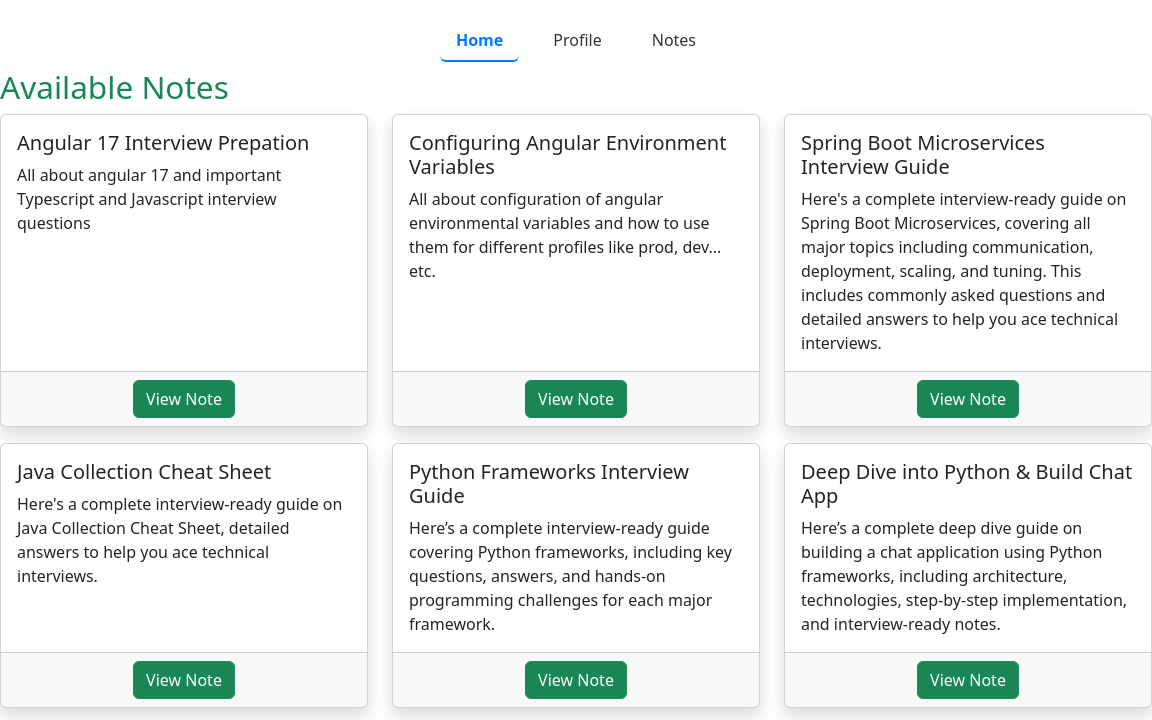
Test: TabsComponent › should have profile content when active tab is profile
Click the button "Profile" at {"x": 578, "y": 41}, box left=537, top=20, right=618, bottom=62
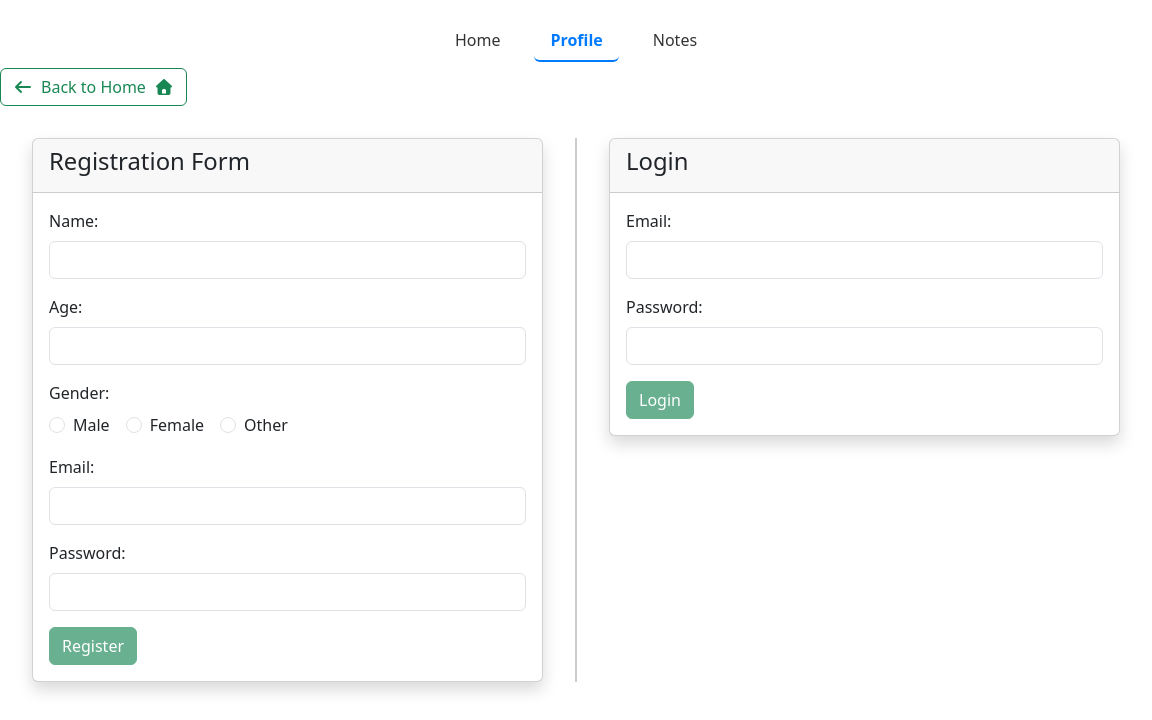
Result: the text "Registration Form" is shown at left=49, top=145, right=250, bottom=177
Result: the text "Login" is shown at left=626, top=145, right=688, bottom=177
